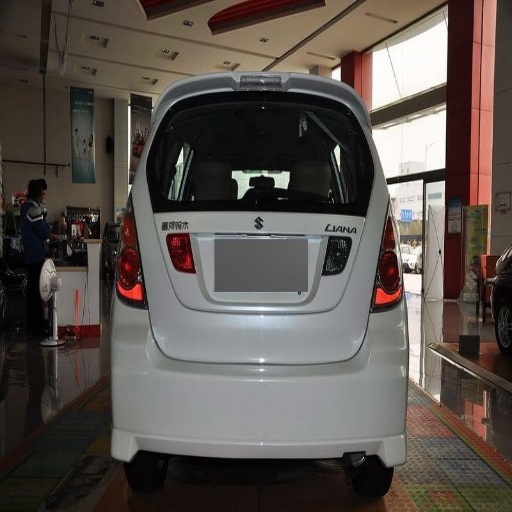back_bumper: (115, 276, 404, 460)
tailgate: (134, 198, 382, 361)
trunk: (162, 325, 281, 361)
